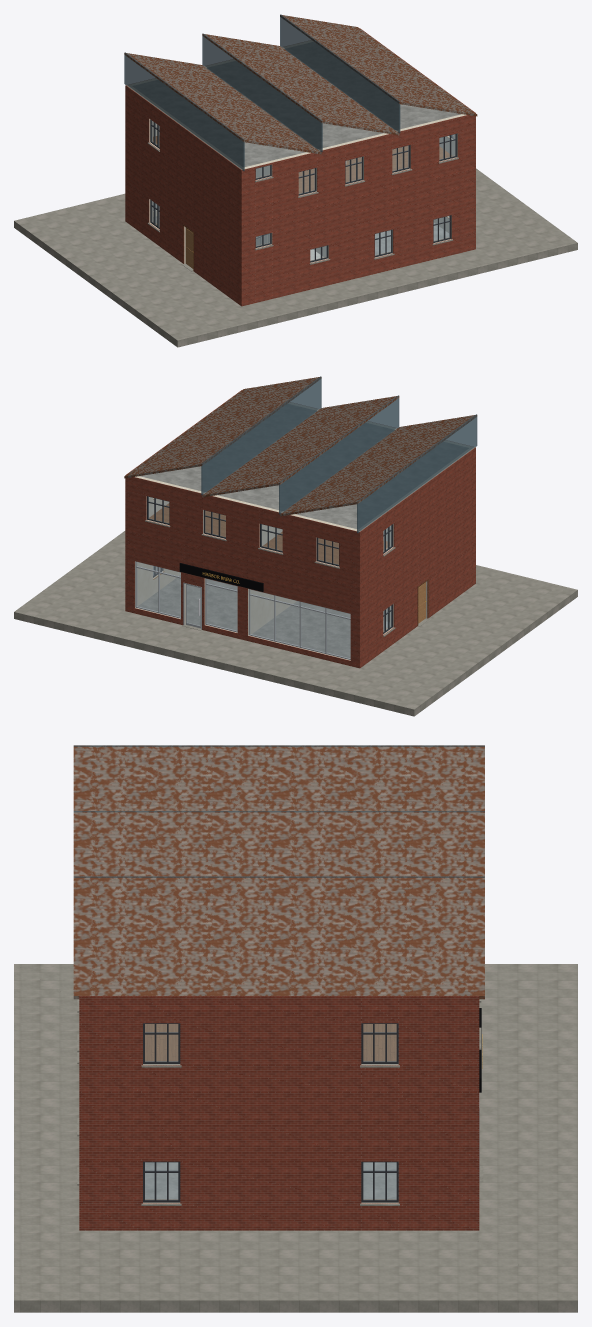
Rendered from b_craft_brewery.gltf.
The picture shows the model from 3 angles, top to bottom: view 1: azimuth 30°, elevation 25°; view 2: azimuth 150°, elevation 25°; view 3: azimuth 270°, elevation 25°; orthographic projection. The views are drawn at different scales.
Parts seen in each view (by area): view 1: S_craft_brewery; view 2: S_craft_brewery, D_craft_brewery_F1_S3_Door0; view 3: S_craft_brewery.
Part boxes in pixels (x1,y1,x2,y2): S_craft_brewery: (14,14,577,347); S_craft_brewery: (14,376,577,716); D_craft_brewery_F1_S3_Door0: (185,584,200,628); S_craft_brewery: (14,745,577,1312).
Size of the model in its own units: 24 by 10 by 17.
Materials: 20 (11 with a texture image).
